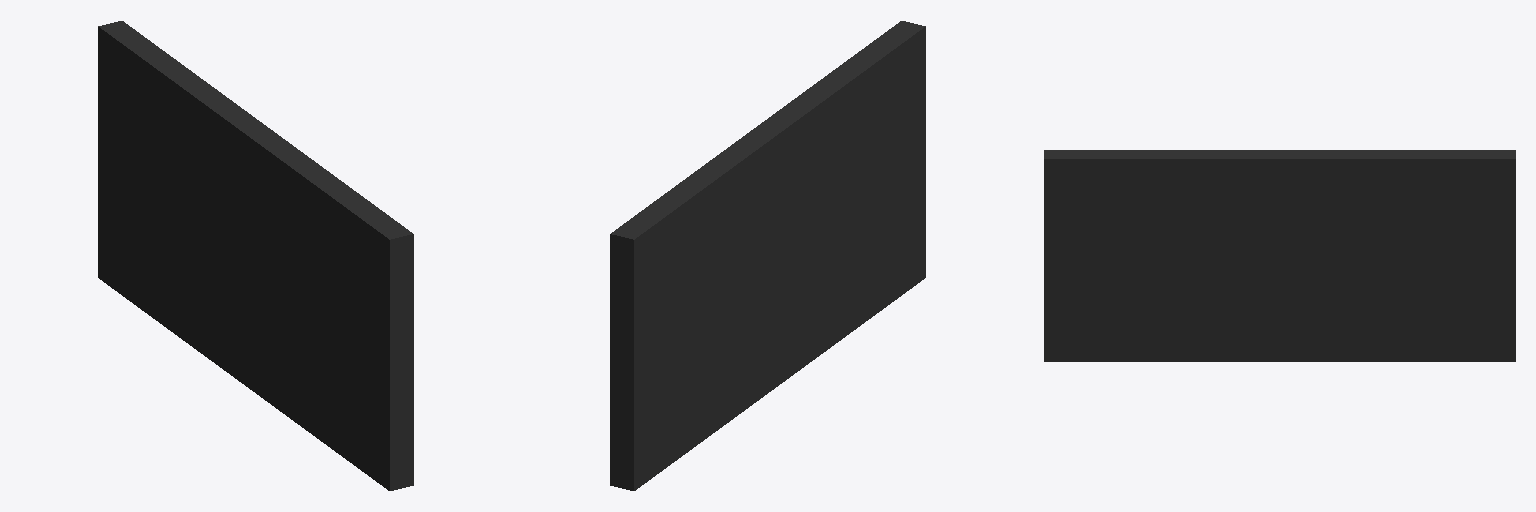
The robot description file, URDF, robot "wall":
<robot name="wall">
  <link name="baseLink">
   
    <inertial>
      <origin rpy="0 0 0" xyz="0 0 0" />
       <mass value="10" />
       <inertia ixx="0" ixy="0" ixz="0" iyy="0" iyz="0" izz="0" />
    </inertial>
    <visual>
      <origin rpy="0 0 0" xyz="0 0 0" />
      <geometry>
			  <box size="0.1 2.1 1" />
      </geometry>
       <material name="grey">
        <color rgba="0.24 0.24 0.24 1" />
      </material>
    </visual>
    <collision>
      <origin rpy="0 0 0" xyz="0 0 0" />
      <geometry>
	 	      <box size="0.1 2.1 1" />
      </geometry>
    </collision>
  </link>
</robot>

--- Render facts (derived) ---
3 views of the same robot in one strip: view 1: azimuth 30°, elevation 25°; view 2: azimuth 150°, elevation 25°; view 3: azimuth 270°, elevation 25° (orthographic).
Model wall with 1 links and 0 joints (none), rooted at baseLink, posed every joint at zero.
Links seen in each view (by area): view 1: baseLink; view 2: baseLink; view 3: baseLink.
Boxes of the visible links, bbox=[...] form: baseLink: bbox=[98, 21, 413, 490]; baseLink: bbox=[610, 21, 925, 490]; baseLink: bbox=[1044, 150, 1515, 361].
Bounding box of the posed robot: 0.1 × 2.1 × 1 m (x, y, z).
Geometry: primitives only (box / cylinder / sphere), no mesh files.
